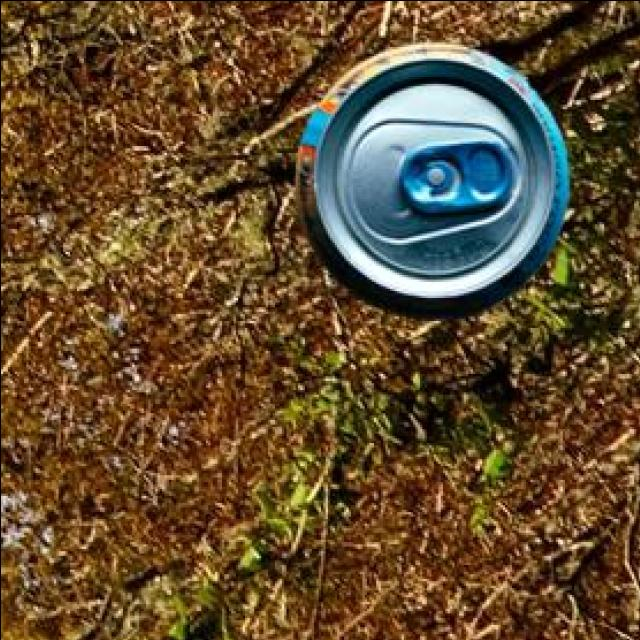logam: (291, 45, 565, 323)
